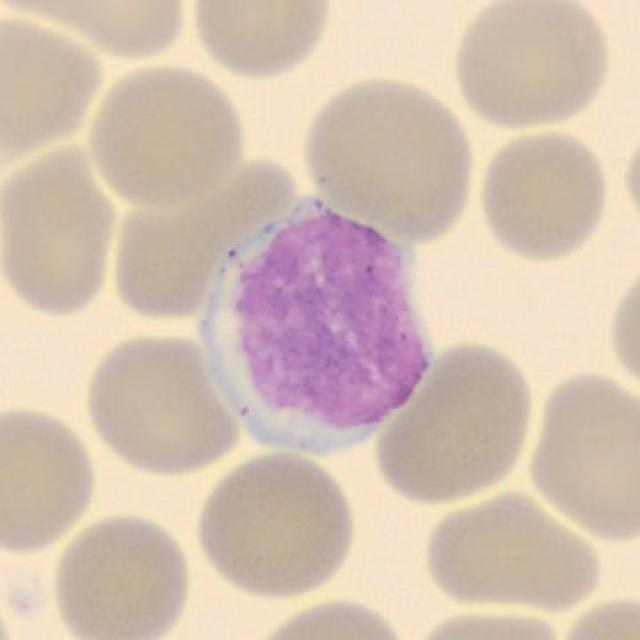Linfocito atipico: (196, 199, 432, 459)
